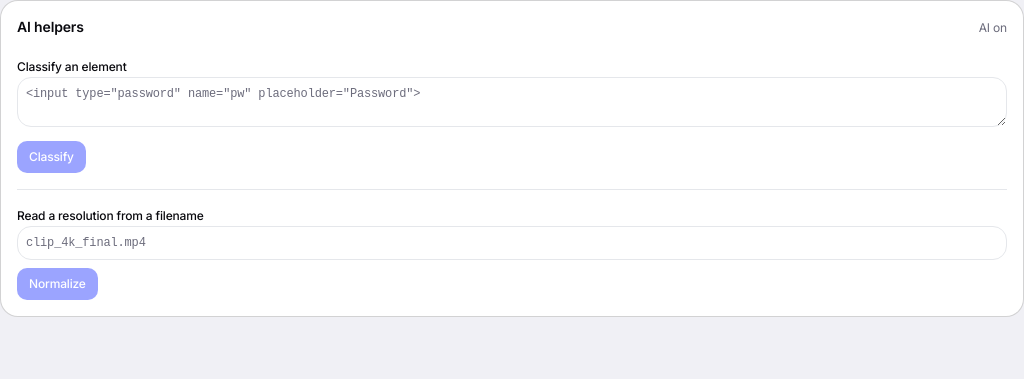
Test: AiHelpersPanel wires the two pure ai helpers › classifies and shows role + confidence + reasoning
Check: the text "AI on" is shown, box [979,20,1007,36]
Type "<input type=\"password\">" into the text box labelled "Classify an element" at (512, 102), box [17,77,1007,127]
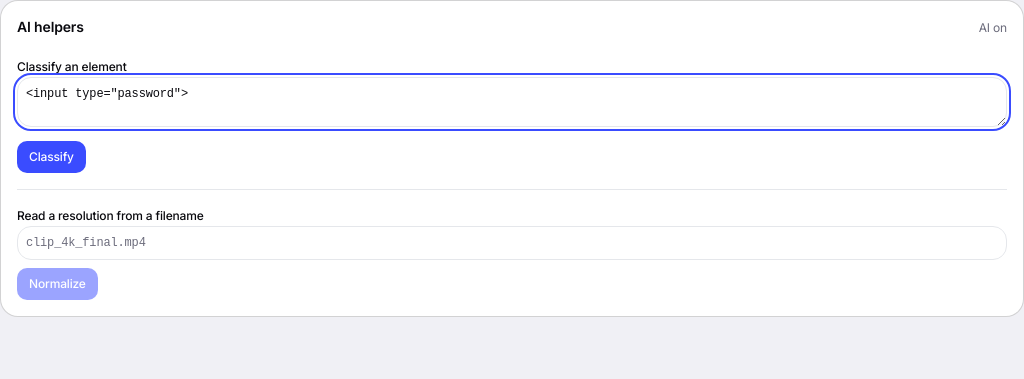
Click the button "Classify" at (51, 157), box [17,141,86,173]
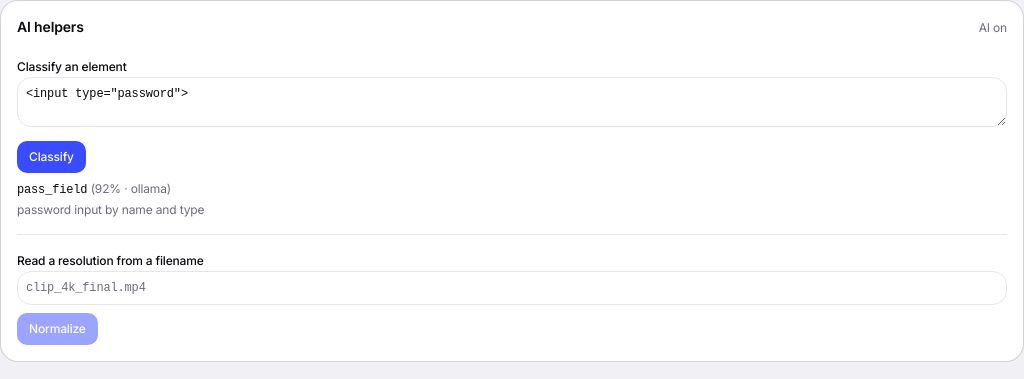
Check: the element with test id "classify-result" shows "pass_field", box [17,183,87,197]
Check: the element with test id "classify-result" shows "92%", box [17,181,204,217]
Check: the element with test id "classify-result" shows "password input by name and type", box [17,202,204,217]
